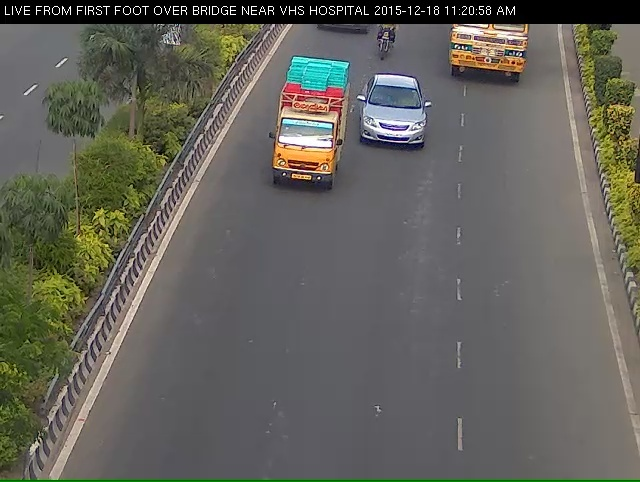Auto: (263, 62, 349, 206)
Bus: (445, 24, 530, 90)
Car: (357, 82, 428, 158)
Person: (371, 23, 397, 63)
